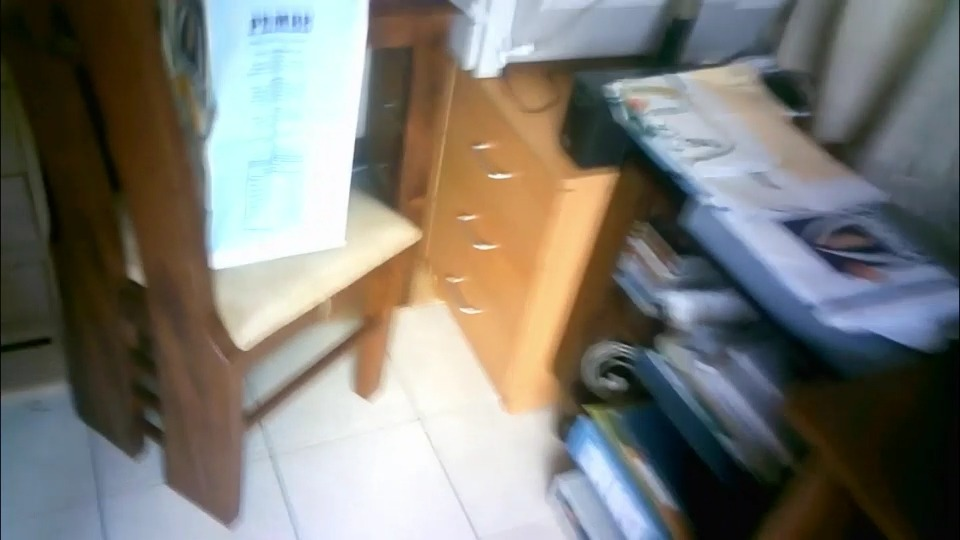wheat_flour_blue_label: (164, 2, 368, 241)
